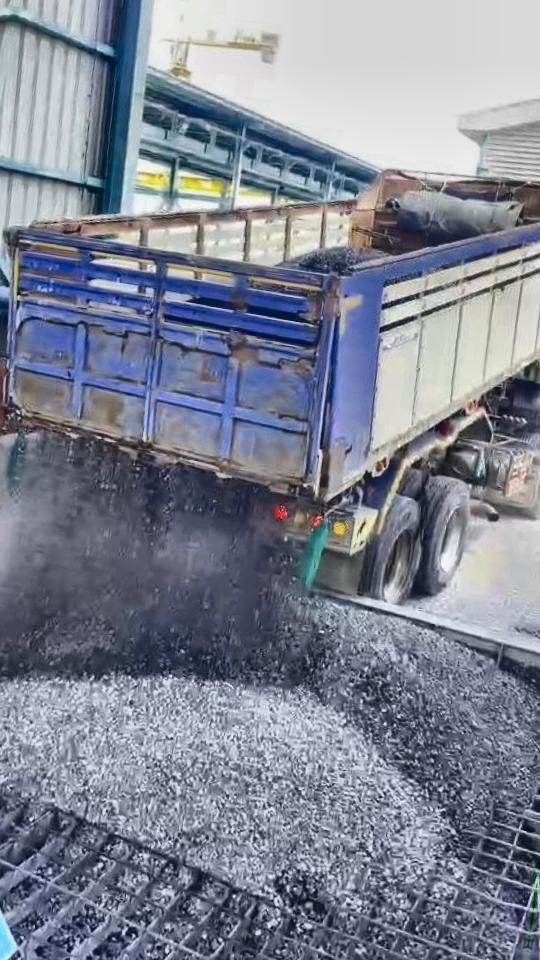gravel: (0, 676, 448, 908), (0, 437, 299, 679), (304, 599, 540, 831), (281, 246, 382, 275), (517, 625, 540, 650)
